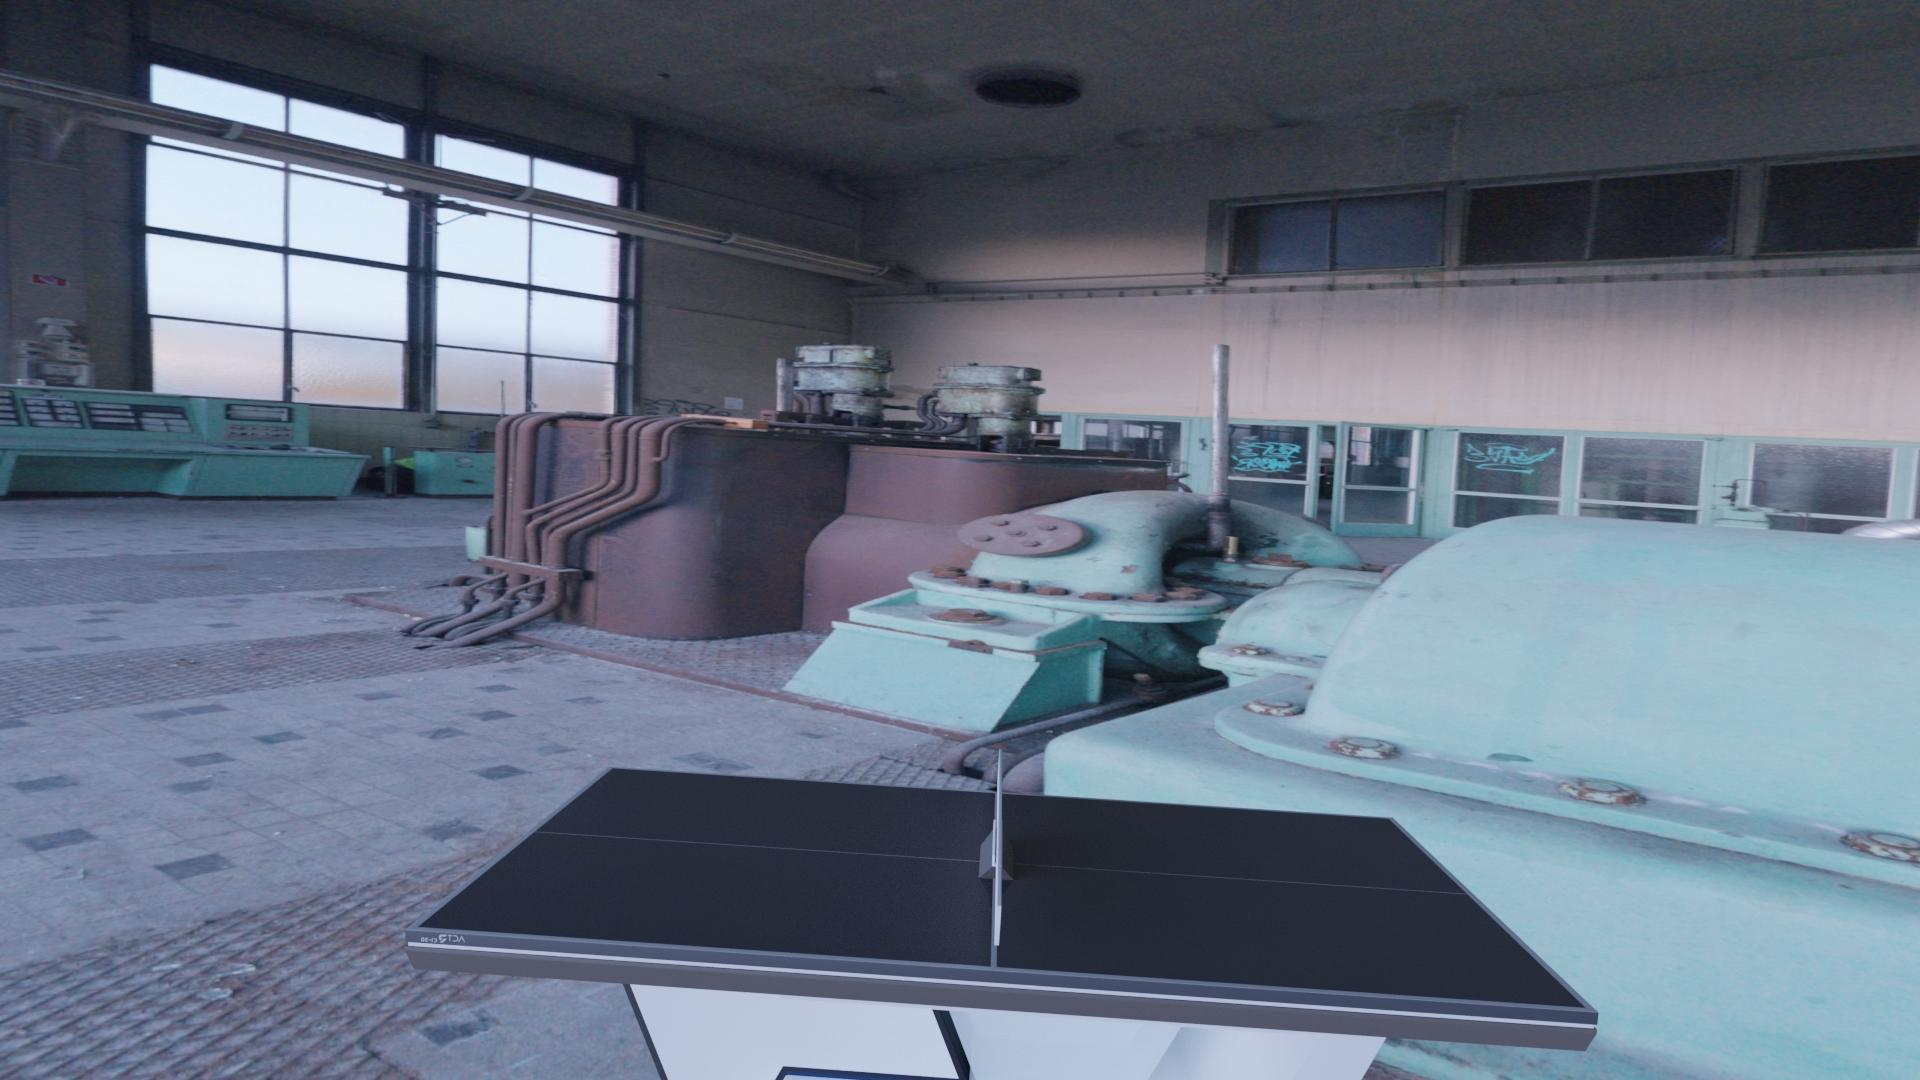table: (418, 769, 1586, 1007)
